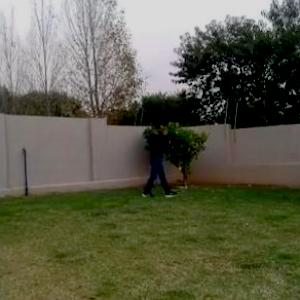follow: (146, 116, 167, 204)
